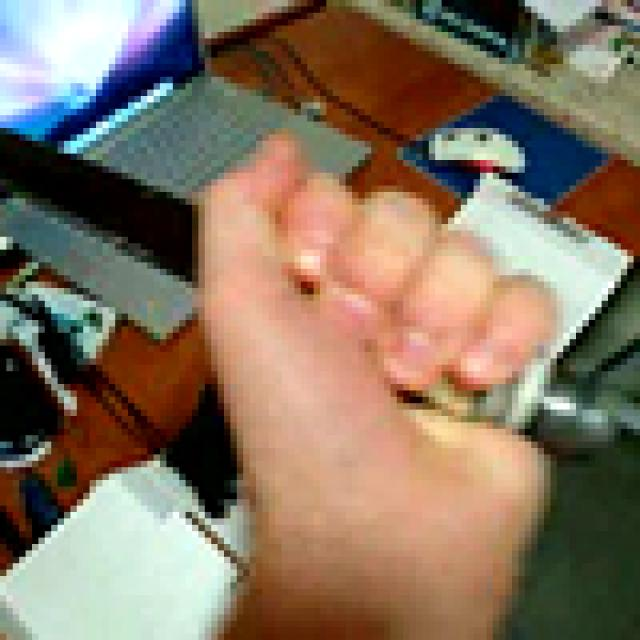Weapons: (0, 125, 198, 298)
